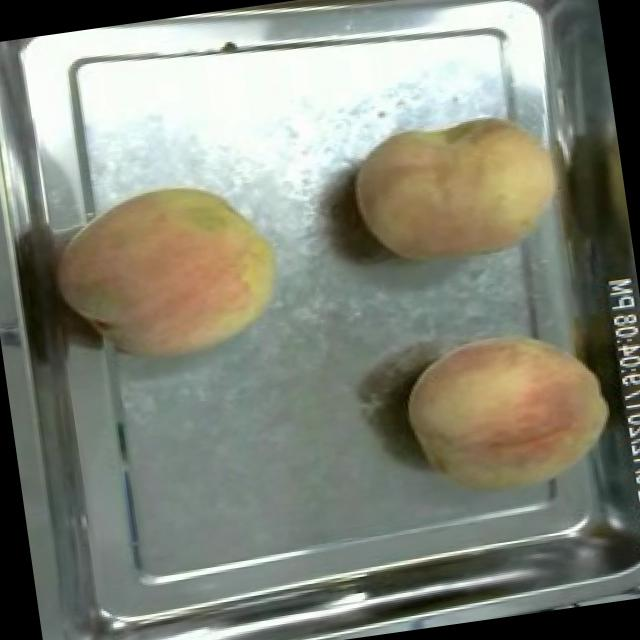Fruit: (42, 165, 299, 382), (388, 312, 630, 521), (338, 96, 582, 286)
